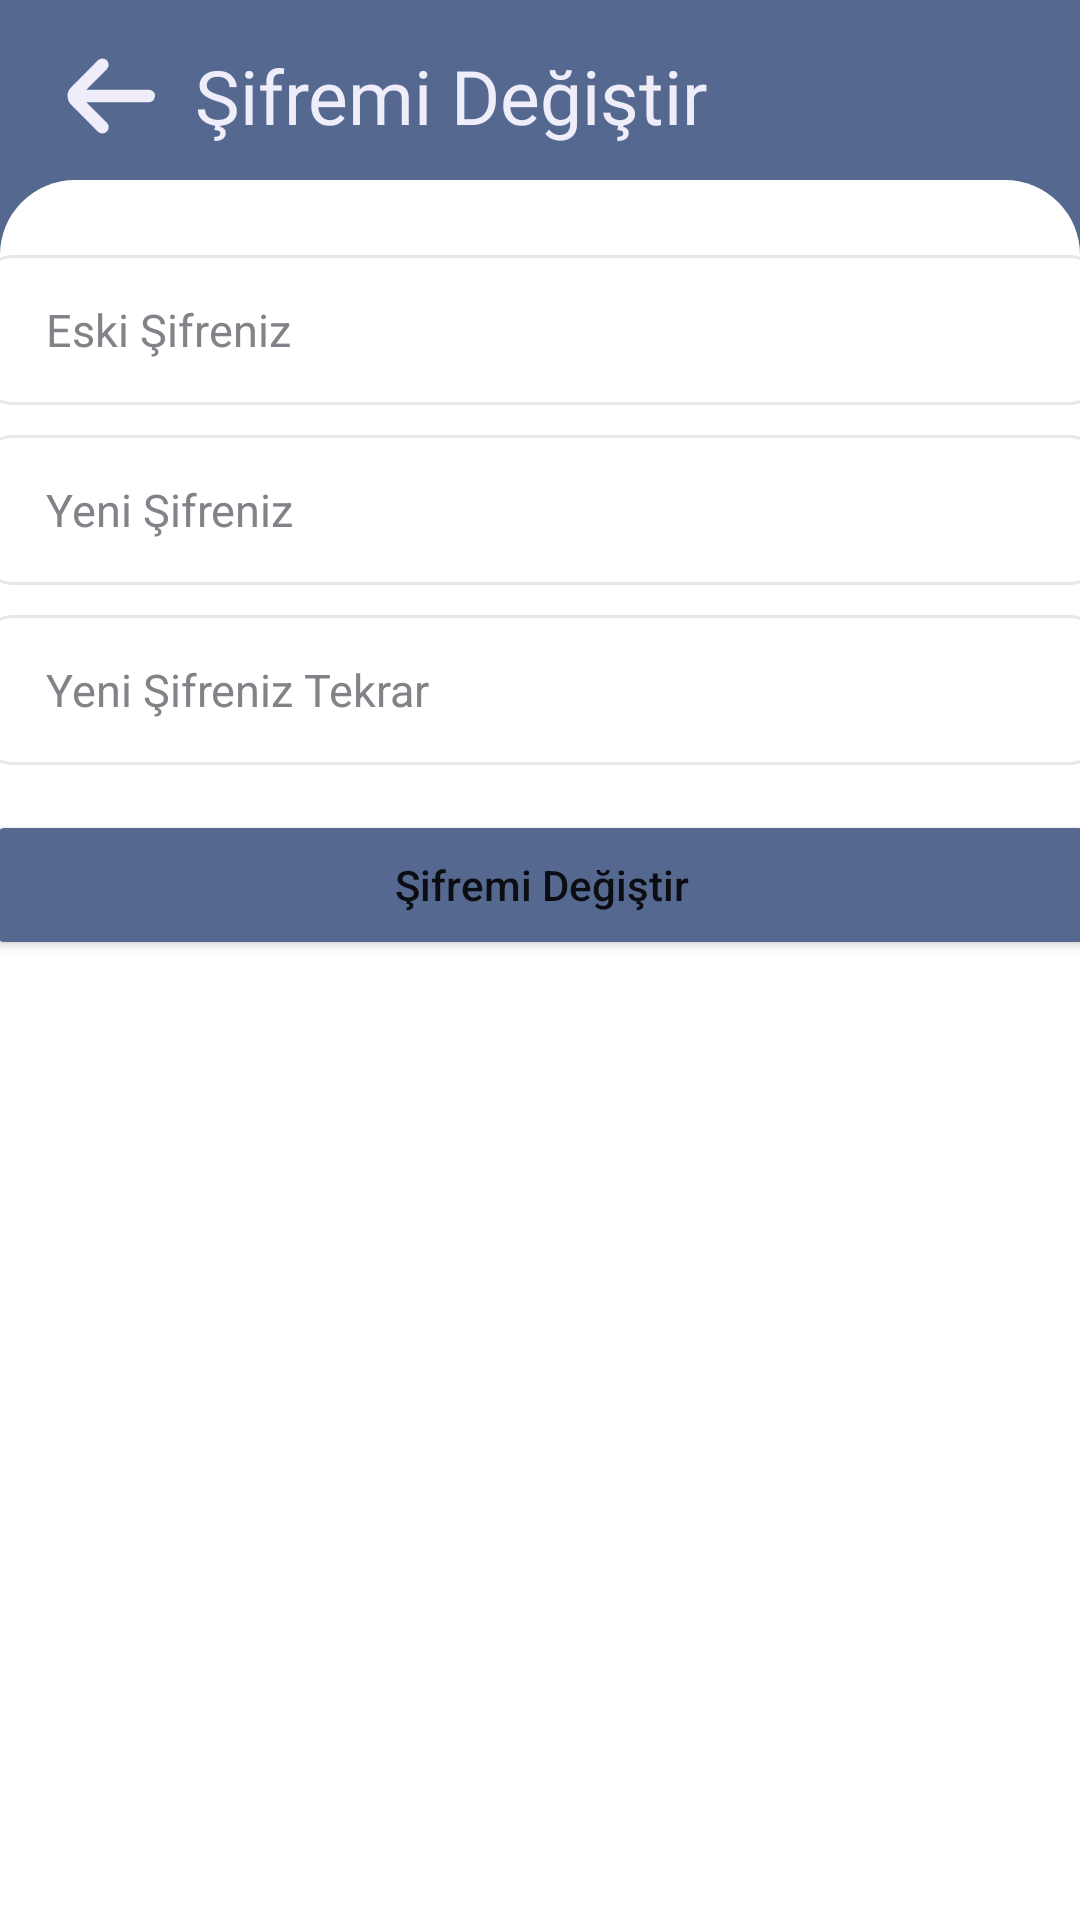

Point at icon controls on the screen. Image size 1080px×1920px, points as point (x, y).
arrow left: point (111, 96)
